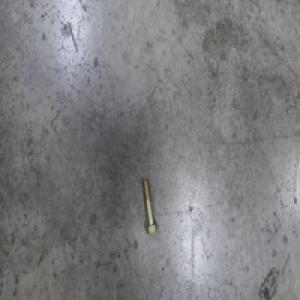Bolt: (142, 178, 159, 236)
